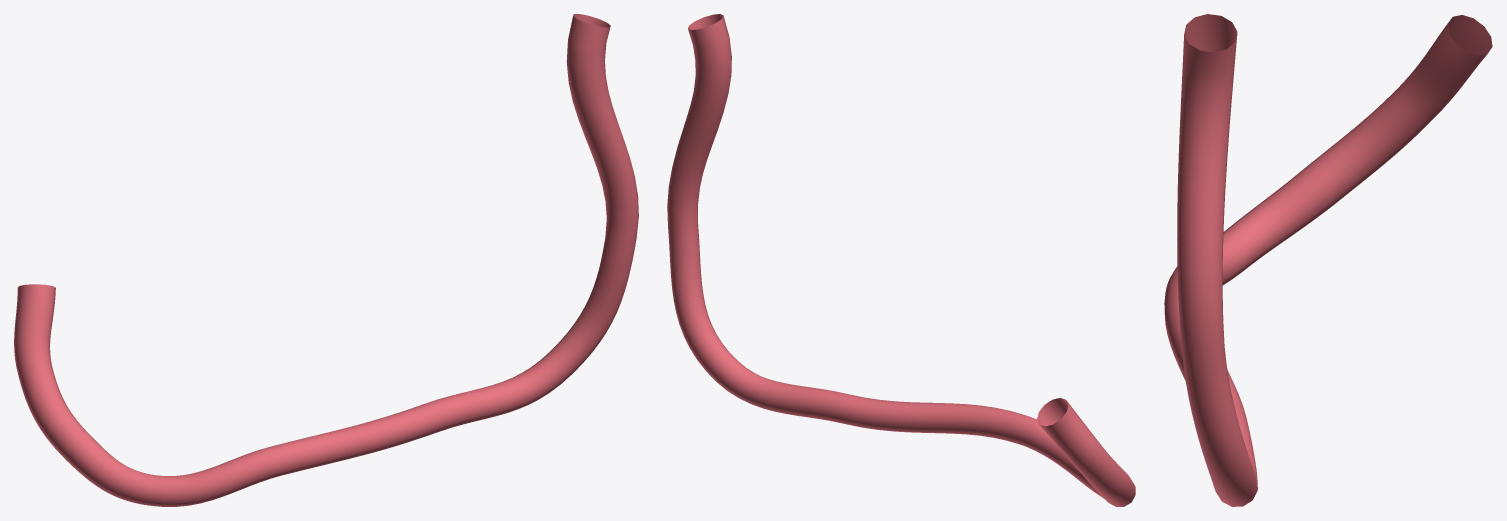
The picture shows the model from 3 angles, left to right: view 1: azimuth 30°, elevation 25°; view 2: azimuth 150°, elevation 25°; view 3: azimuth 270°, elevation 25°; orthographic projection. The views are drawn at different scales.
Visible parts, largest first — view 1: ZA_acb36f1b0a51aa71; view 2: ZA_acb36f1b0a51aa71; view 3: ZA_acb36f1b0a51aa71.
Part boxes in pixels (bbox=[...]): ZA_acb36f1b0a51aa71: bbox=[14, 14, 638, 506]; ZA_acb36f1b0a51aa71: bbox=[667, 14, 1135, 506]; ZA_acb36f1b0a51aa71: bbox=[1164, 14, 1492, 506].
Size of the model in its own units: 0.039 by 0.0272 by 0.0152.
